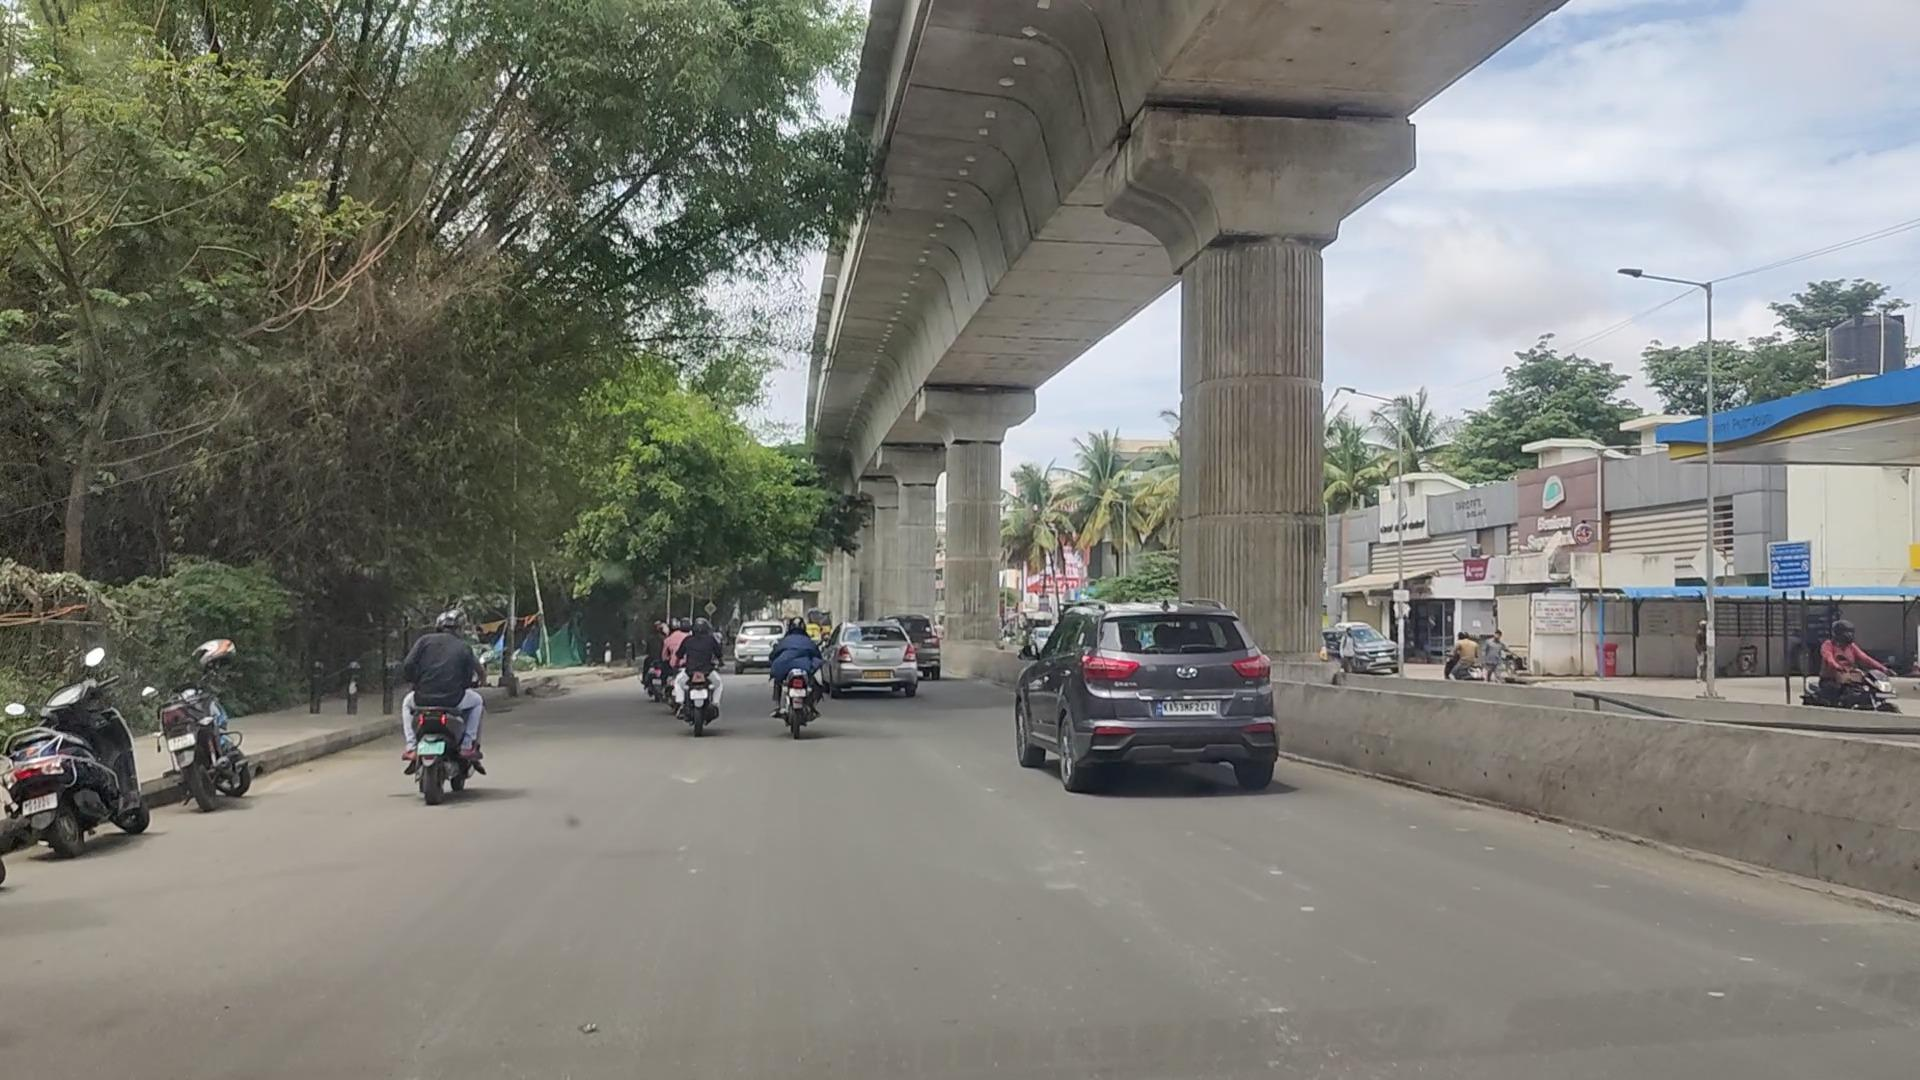LMV: (1018, 593, 1276, 794), (393, 589, 484, 814), (758, 600, 833, 748), (671, 601, 725, 738)
